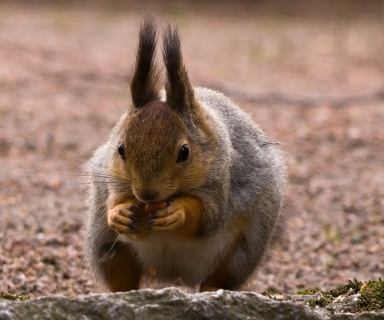Squirrel: (27, 6, 289, 294)
